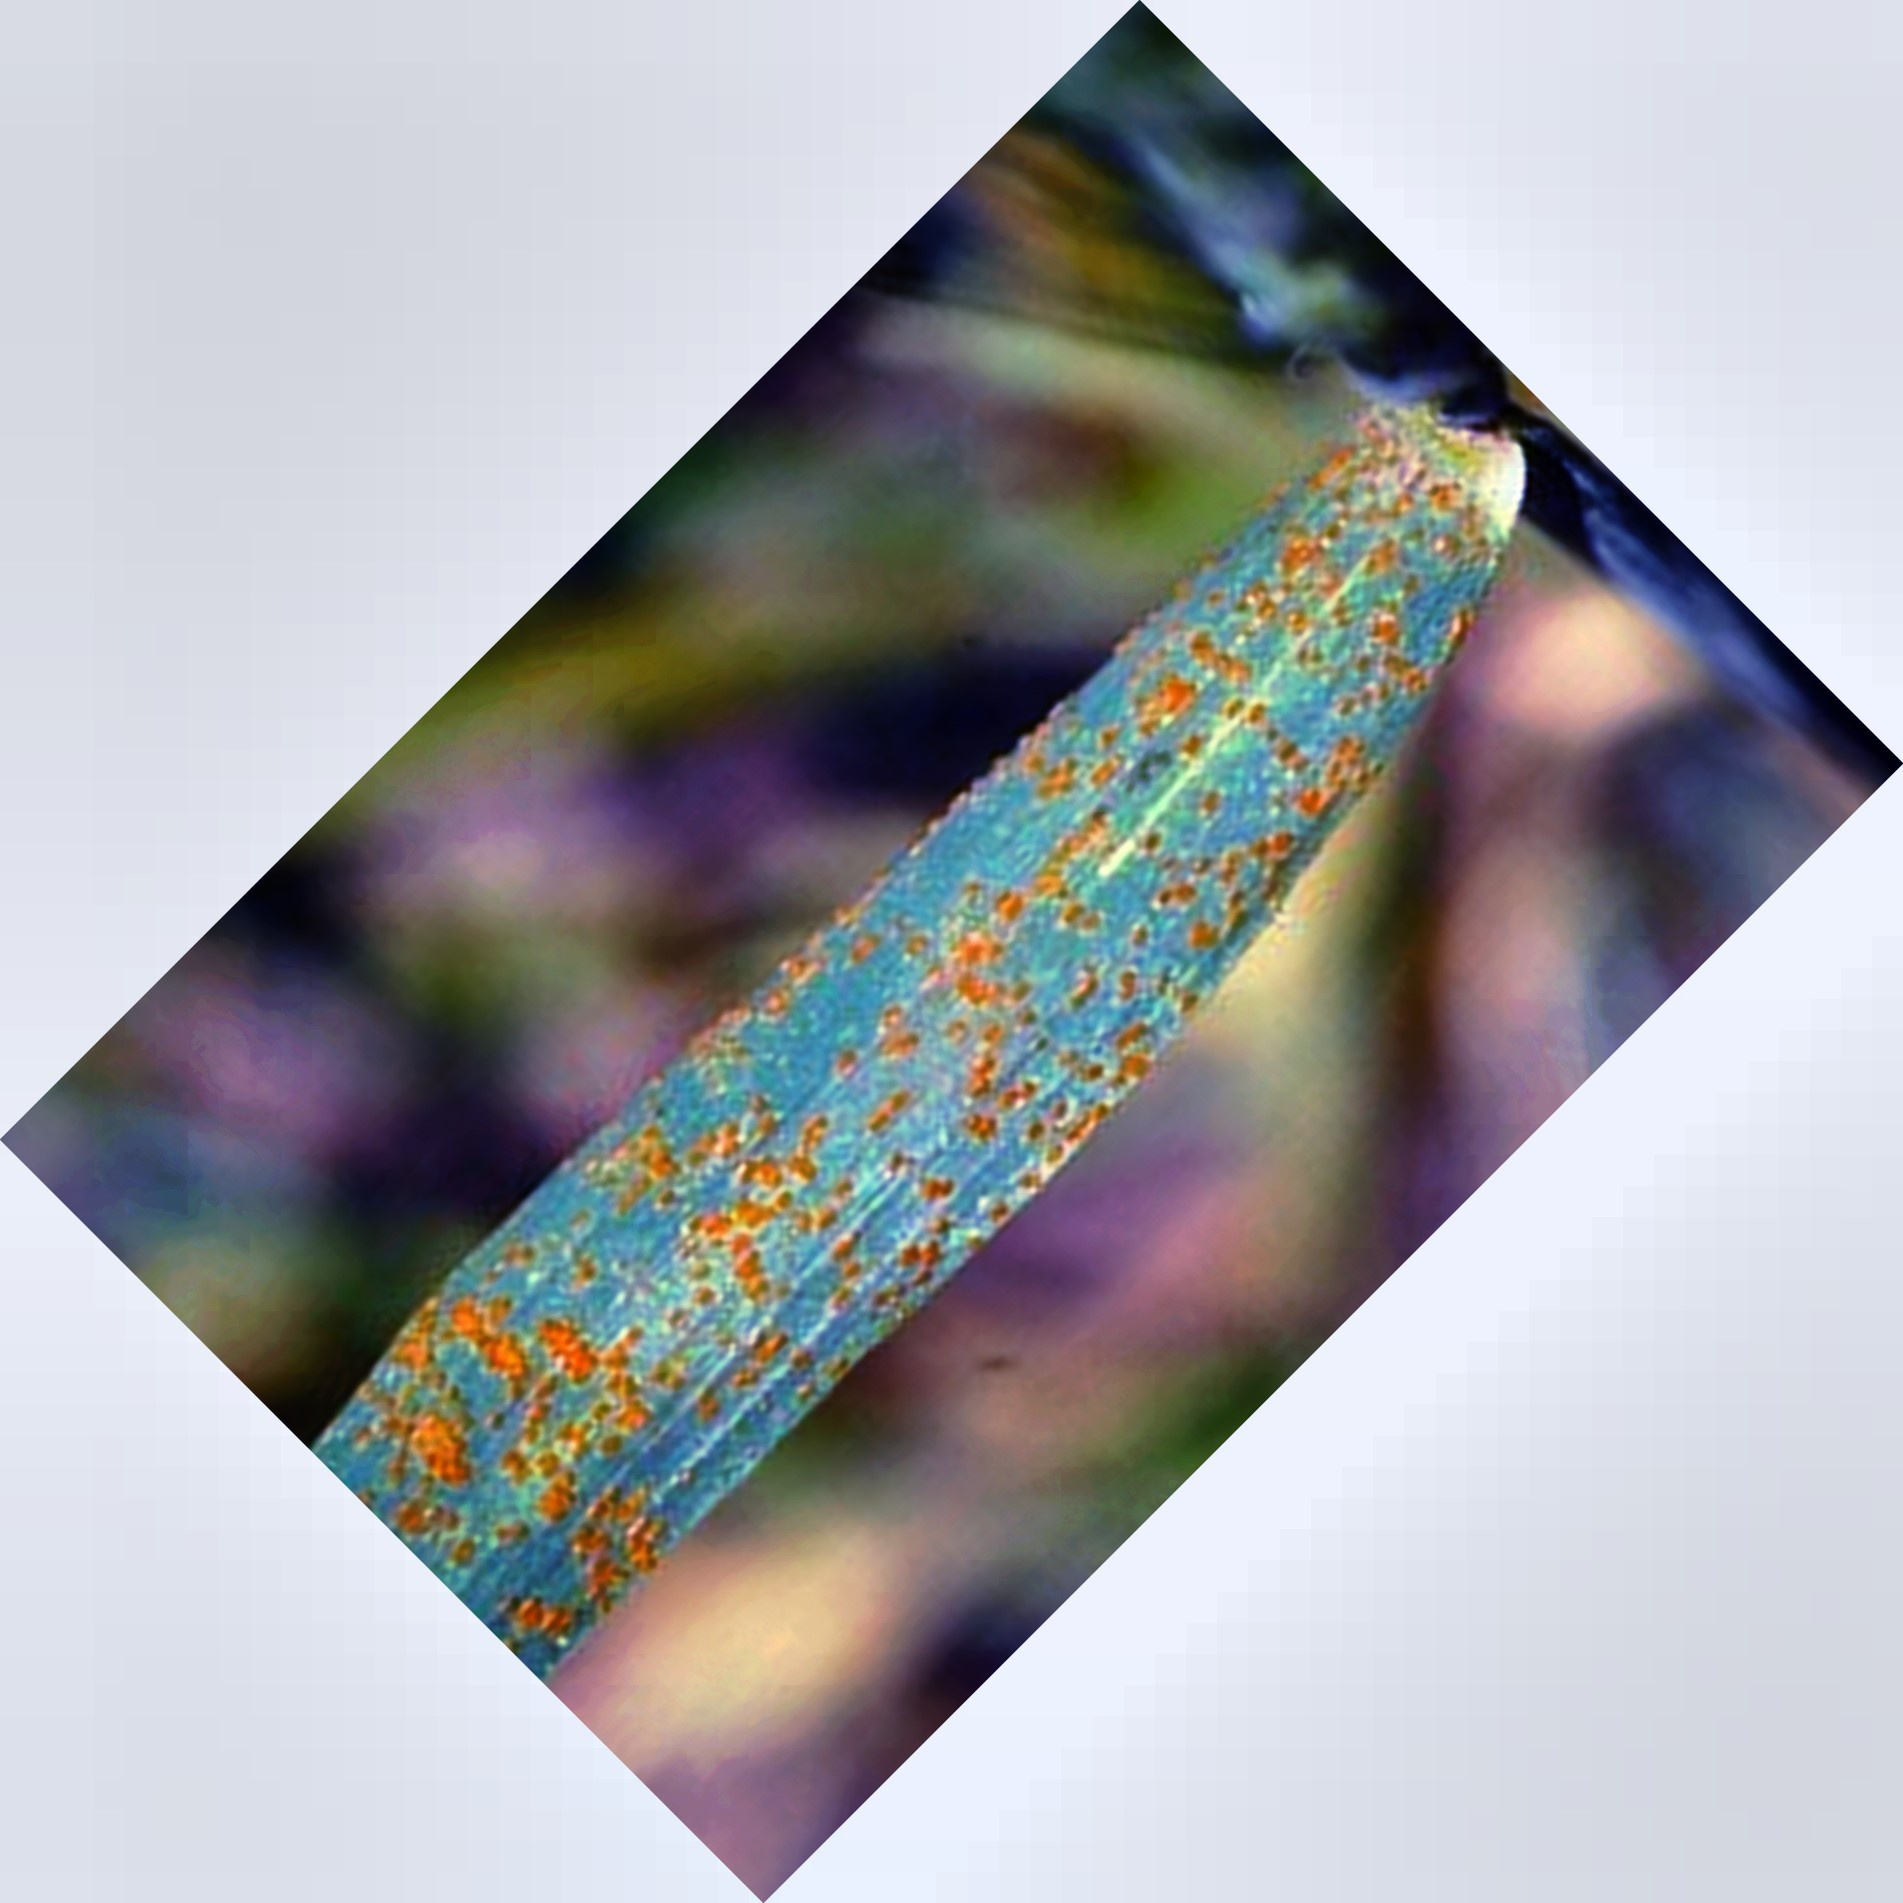Leaf Rust: (430, 525, 1563, 1504)
